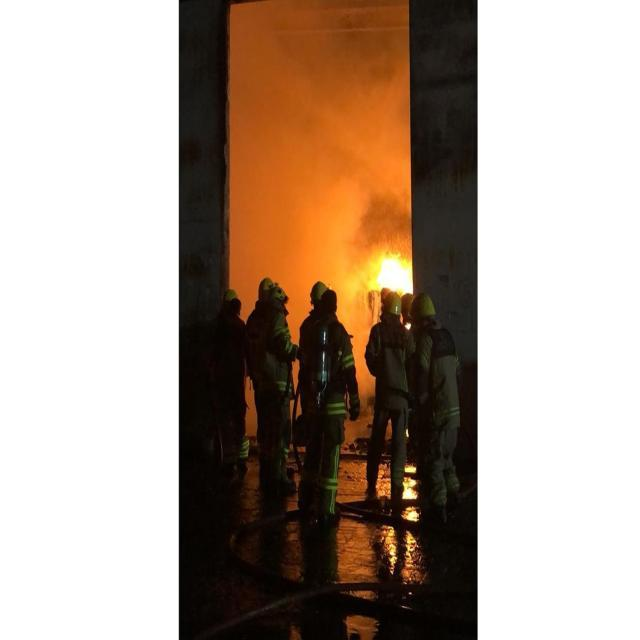Fire: (367, 250, 415, 296)
Smoke: (229, 1, 412, 437)
